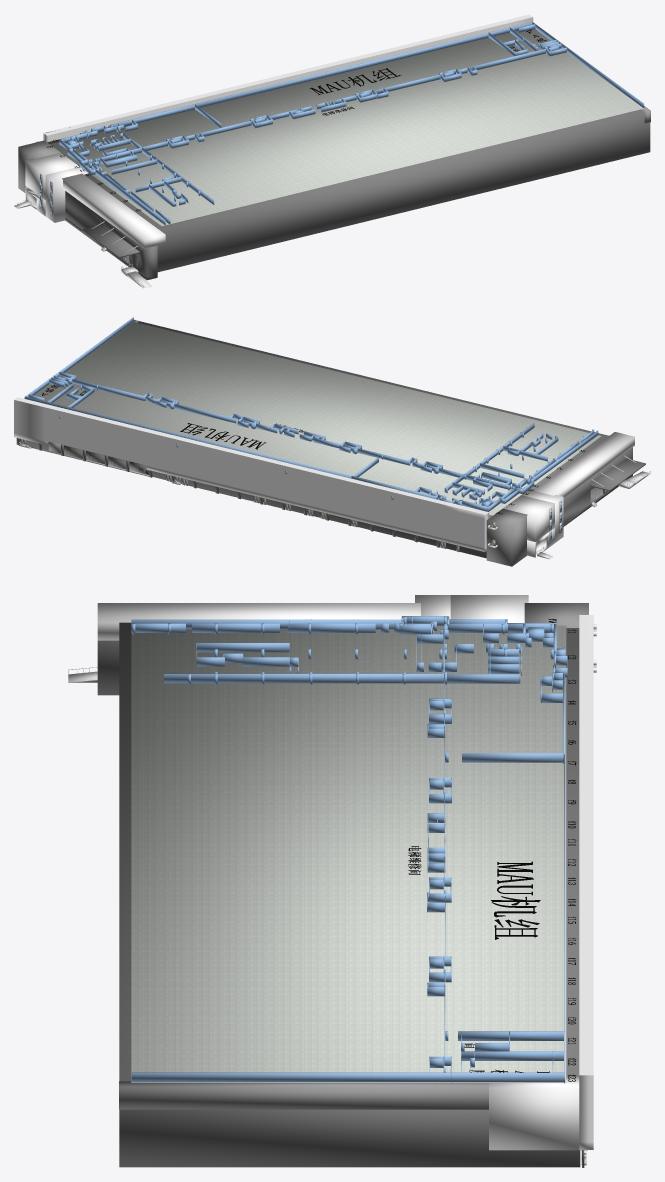
Rendered from 5f_mini.gltf.
3 renders of one model, top to bottom at view 1: azimuth 30°, elevation 25°; view 2: azimuth 150°, elevation 25°; view 3: azimuth 270°, elevation 25°, orthographic. The views are drawn at different scales.
Parts seen in each view (by area): view 1: fab_n2_dimian_4f, fab_n2_waiguan_4_83, fab_n2_waiguan_4_85, fab_n2_waiguan_4_93, fab_n2_waiguan_4_235, fab_n2_qiang_4f_201, fab_n2_waiguan_4_205, fab_n2_waiguan_4_76, fab_n2_waiguan_4_62, fab_n2_waiguan_4_82, fab_n2_qiang_4f_48, fab_n2_qiang_4f_119 (+3 smaller); view 2: fab_n2_dimian_4f, fab_n2_waiguan_4_85, fab_n2_waiguan_4_83, fab_n2_waiguan_4_93, fab_n2_waiguan_4_82, fab_n2_waiguan_4_235, fab_n2_waiguan_4_205, fab_n2_qiang_4f_201, fab_n2_waiguan_4_62, fab_n2_waiguan_4_76, fab_n2_qiang_4f_48, fab_n2_waiguan_4_234 (+3 smaller); view 3: fab_n2_dimian_4f, fab_n2_waiguan_4_83, fab_n2_waiguan_4_1, fab_n2_waiguan_4_85, fab_n2_waiguan_4_84, fab_n2_waiguan_4_93, fab_n2_qiang_4f_48, fab_n2_qiang_4f_47, fab_n2_waiguan_4_205, fab_n2_qiang_4f_8, MAU, fab_n2_waiguan_4_82 (+7 smaller).
Boxes of the visible parts, bbox=[...] form: fab_n2_dimian_4f: bbox=[50, 29, 643, 225]; fab_n2_waiguan_4_83: bbox=[47, 109, 650, 272]; fab_n2_waiguan_4_85: bbox=[43, 14, 533, 142]; fab_n2_waiguan_4_93: bbox=[62, 173, 165, 248]; fab_n2_waiguan_4_235: bbox=[65, 191, 157, 280]; fab_n2_qiang_4f_201: bbox=[196, 22, 532, 107]; fab_n2_waiguan_4_205: bbox=[25, 152, 78, 199]; fab_n2_waiguan_4_76: bbox=[45, 166, 88, 222]; fab_n2_waiguan_4_62: bbox=[82, 224, 139, 257]; fab_n2_waiguan_4_82: bbox=[18, 140, 60, 192]; fab_n2_qiang_4f_48: bbox=[532, 22, 644, 107]; fab_n2_qiang_4f_119: bbox=[110, 104, 196, 126]; fab_n2_dimian_4f: bbox=[33, 322, 601, 515]; fab_n2_waiguan_4_85: bbox=[14, 397, 488, 551]; fab_n2_waiguan_4_83: bbox=[26, 321, 608, 558]; fab_n2_waiguan_4_93: bbox=[534, 432, 634, 497]; fab_n2_waiguan_4_82: bbox=[486, 508, 527, 566]; fab_n2_waiguan_4_235: bbox=[563, 447, 632, 526]; fab_n2_waiguan_4_205: bbox=[503, 495, 554, 541]; fab_n2_qiang_4f_201: bbox=[24, 396, 351, 478]; fab_n2_waiguan_4_62: bbox=[590, 458, 645, 490]; fab_n2_waiguan_4_76: bbox=[522, 488, 563, 542]; fab_n2_qiang_4f_48: bbox=[25, 317, 133, 397]; fab_n2_waiguan_4_234: bbox=[527, 528, 554, 557]; fab_n2_dimian_4f: bbox=[131, 625, 566, 1082]; fab_n2_waiguan_4_83: bbox=[119, 622, 580, 1167]; fab_n2_waiguan_4_1: bbox=[119, 1081, 488, 1109]; fab_n2_waiguan_4_85: bbox=[579, 615, 593, 1149]; fab_n2_waiguan_4_84: bbox=[489, 1077, 587, 1150]; fab_n2_waiguan_4_93: bbox=[97, 603, 420, 640]; fab_n2_qiang_4f_48: bbox=[131, 1072, 564, 1082]; fab_n2_qiang_4f_47: bbox=[164, 673, 443, 683]; fab_n2_waiguan_4_205: bbox=[450, 595, 528, 622]; fab_n2_qiang_4f_8: bbox=[131, 619, 401, 629]; MAU: bbox=[491, 861, 540, 939]; fab_n2_waiguan_4_82: bbox=[524, 603, 588, 627].
Size of the model in its own units: 349 by 30.01 by 154.
41 materials, 29 textured.
